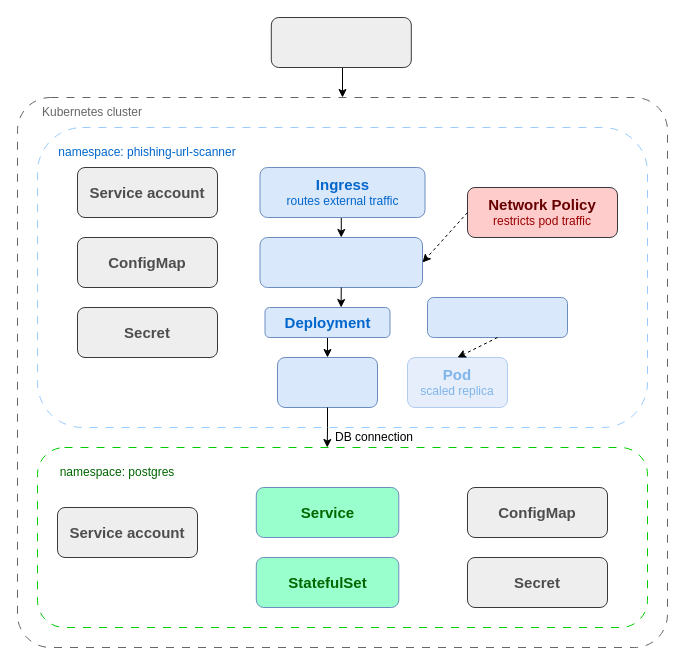
This 685x665 diagram has some shape labels left out. The shapes that lost their labels are listed below. From the top down, each one's box as (x1, y1, x2, y2) in pixels, then its label:
(270, 16, 411, 68): External user
(259, 236, 422, 288): Service routes to pod
(426, 296, 568, 338): HPA autoscales
(276, 356, 378, 408): Pod app container
